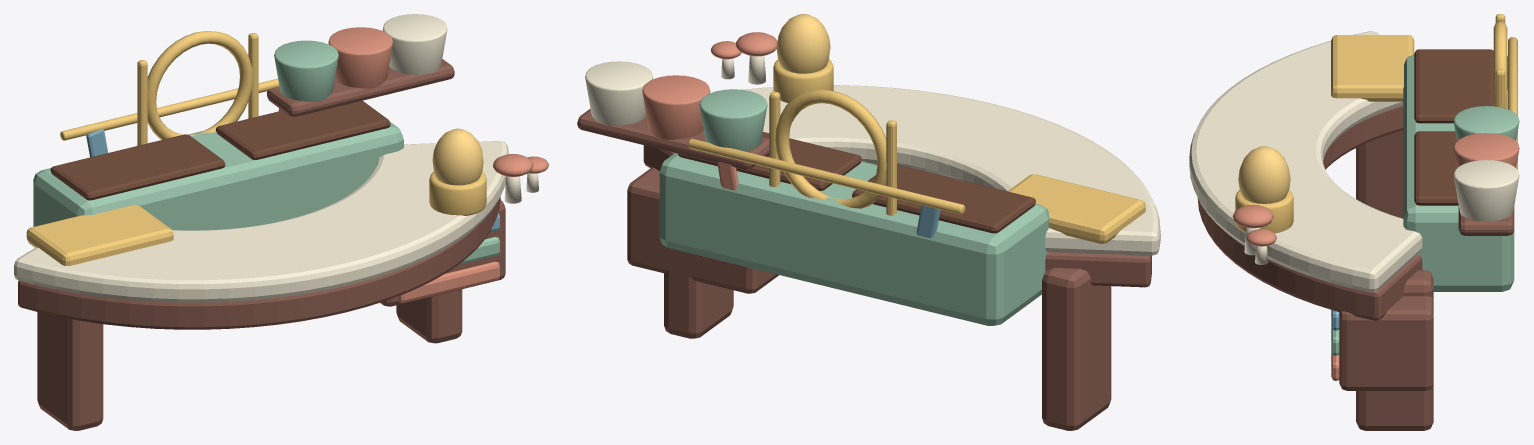
File: MoonGardenAtelier.fbx
3 views of the same model, side by side, from view 1: azimuth 30°, elevation 25°; view 2: azimuth 150°, elevation 25°; view 3: azimuth 270°, elevation 25° (orthographic). The views are drawn at different scales.
Visible parts, largest first — view 1: CrescentWorktop, RaisedPlanter, CrescentUnderframe, AtelierLegLeft, SoilBedLeft, SoilBedRight, WateringCanCradle, MoonTrellis, PotSage, PotCream, PotTerracotta, PotShelf (+10 smaller); view 2: RaisedPlanter, CrescentWorktop, AtelierLegLeft, SupplyDrawerBank, WateringCanCradle, SoilBedLeft, AtelierLegRight, MoonTrellis, PotTerracotta, PotCream, PotSage, CrescentUnderframe (+9 smaller); view 3: CrescentWorktop, RaisedPlanter, SupplyDrawerBank, CrescentUnderframe, SoilBedLeft, WateringCanCradle, AtelierLegRight, AtelierLegLeft, PotCream, SoilBedRight, GardenLanternOrb, PotSage (+7 smaller).
Boxes of the visible parts, x1,y1,x2,y2 form: CrescentWorktop: (14,141,508,302); RaisedPlanter: (33,122,403,230); CrescentUnderframe: (18,196,500,329); AtelierLegLeft: (37,312,103,430); SoilBedLeft: (50,134,225,200); SoilBedRight: (216,100,390,159); WateringCanCradle: (26,204,173,265); MoonTrellis: (147,31,252,139); PotSage: (274,40,338,101); PotCream: (383,14,447,75); PotTerracotta: (328,27,392,88); PotShelf: (267,59,454,116); RaisedPlanter: (659,153,1048,325); CrescentWorktop: (743,85,1160,255); AtelierLegLeft: (1042,268,1111,430); SupplyDrawerBank: (627,167,778,293); WateringCanCradle: (1008,174,1145,243); SoilBedLeft: (852,164,1035,233); AtelierLegRight: (664,248,733,338); MoonTrellis: (775,89,886,208); PotTerracotta: (642,75,710,139); PotCream: (585,61,652,125); PotSage: (699,89,767,151); CrescentUnderframe: (643,145,1151,287); CrescentWorktop: (1189,31,1422,292); RaisedPlanter: (1403,55,1514,291); SupplyDrawerBank: (1339,296,1433,390); CrescentUnderframe: (1197,105,1422,320); SoilBedLeft: (1414,49,1493,123); WateringCanCradle: (1331,35,1414,101); AtelierLegRight: (1356,270,1433,430); AtelierLegLeft: (1356,130,1403,218); PotCream: (1453,160,1519,221); SoilBedRight: (1414,131,1458,205); GardenLanternOrb: (1238,146,1290,203); PotSage: (1453,106,1519,140).
Size of the model in its own units: 2.08 by 1.23 by 1.19.
